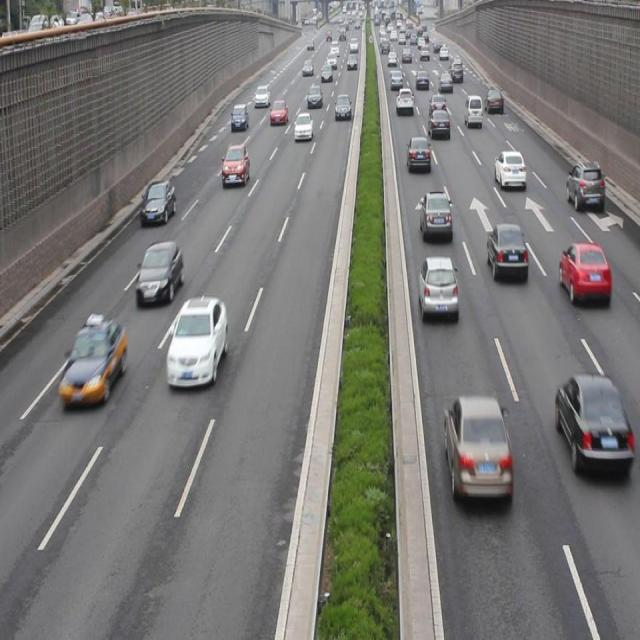car: (554, 373, 631, 473), (442, 393, 510, 499), (59, 317, 127, 407), (165, 293, 227, 388), (558, 240, 610, 305), (135, 238, 183, 308), (418, 254, 458, 318), (486, 221, 527, 283), (565, 158, 603, 213), (419, 190, 452, 243), (140, 178, 175, 226), (493, 148, 525, 192), (221, 142, 249, 186), (406, 134, 429, 172), (428, 108, 450, 142), (293, 111, 312, 140), (230, 103, 248, 130)
truck: (464, 93, 483, 127)
